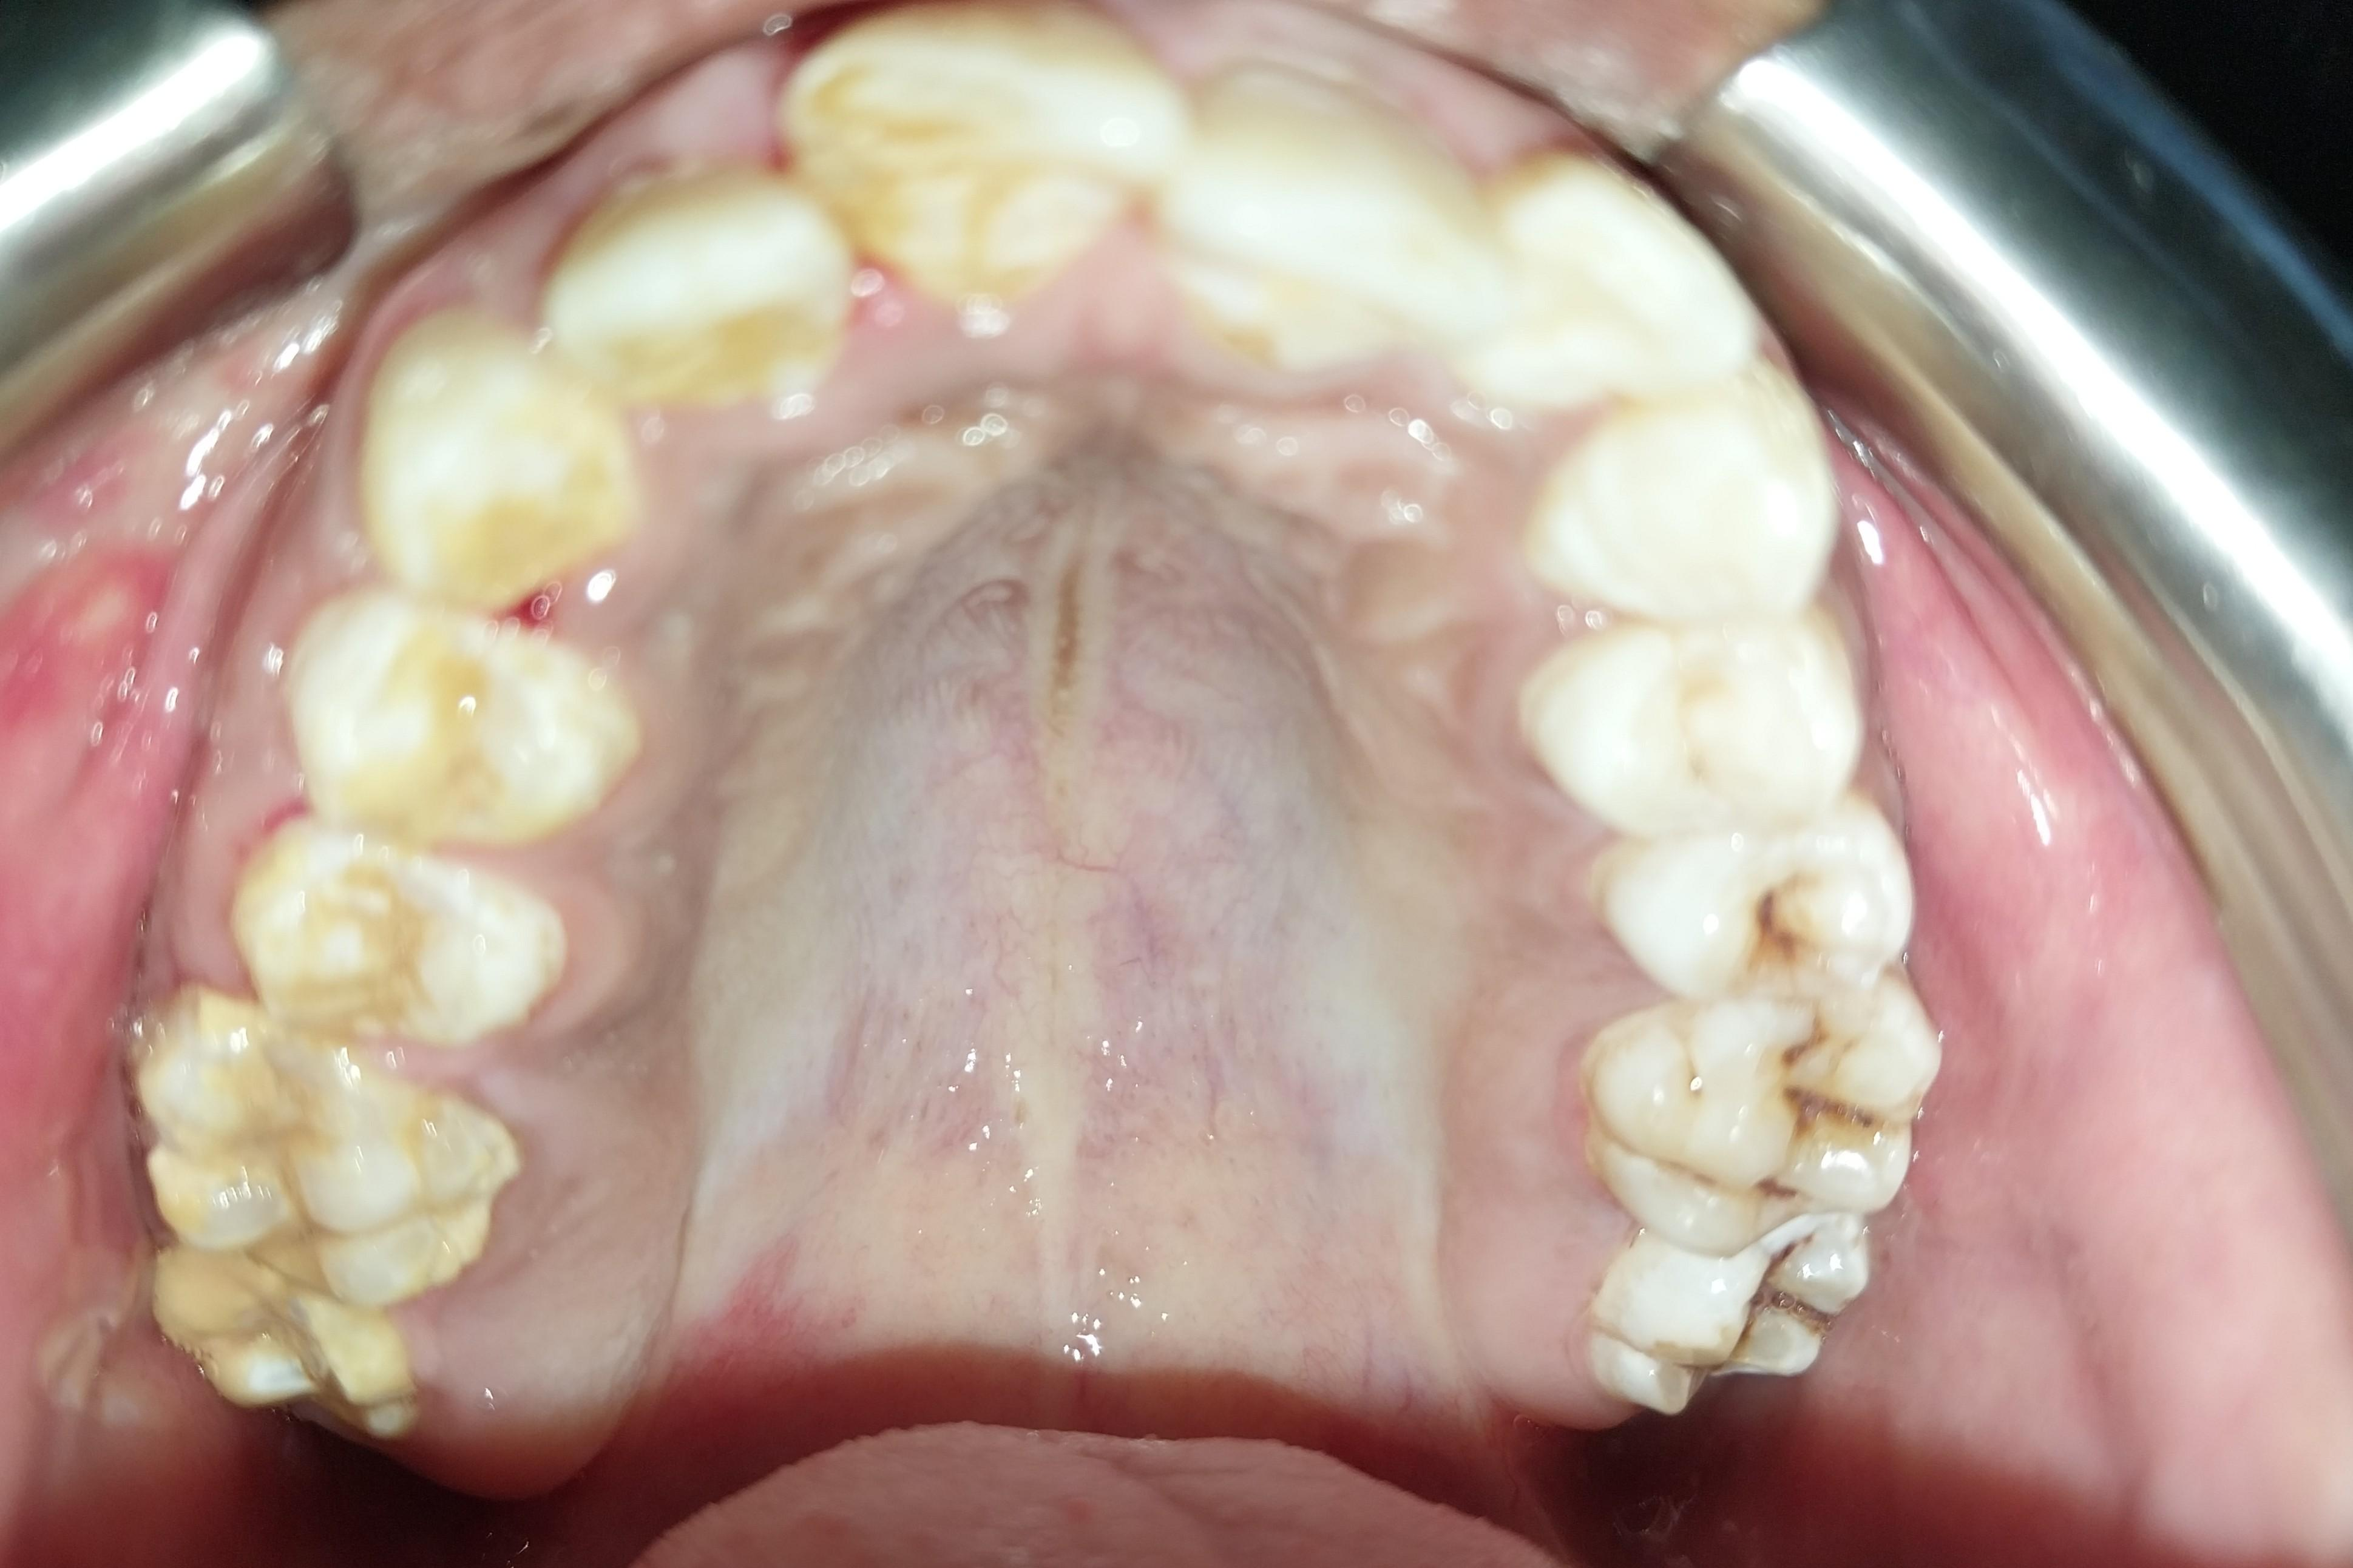D: (1599, 997, 1923, 1252), (1619, 828, 1908, 990), (1621, 1232, 1869, 1409)
